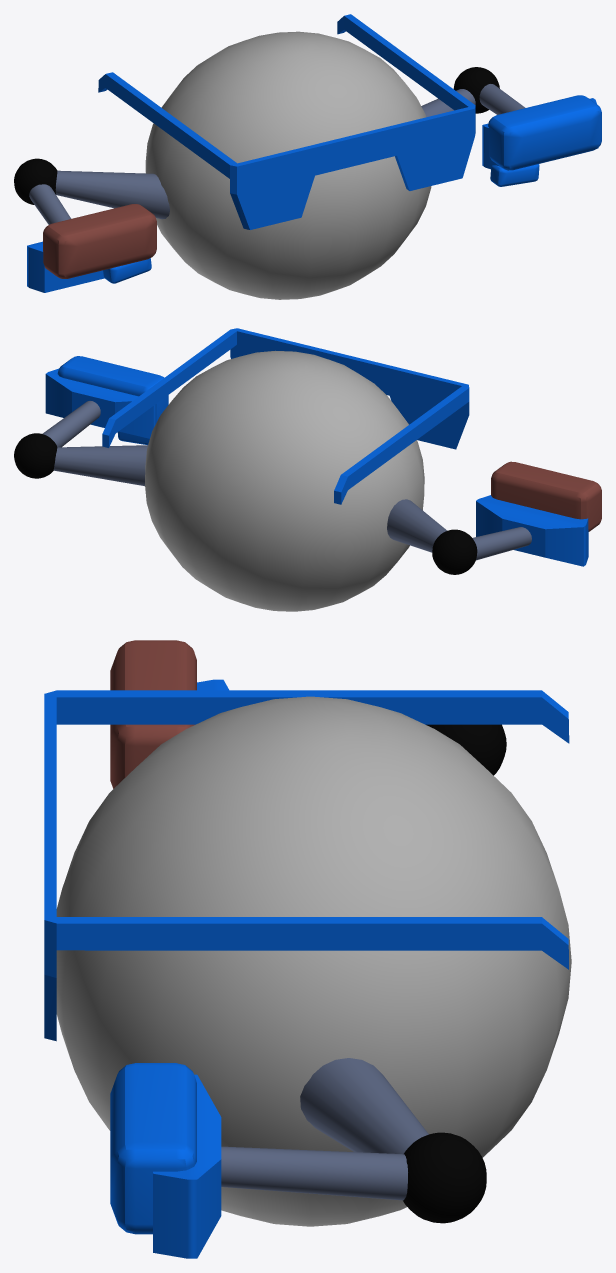
File: player2.fbx
The picture shows the model from 3 angles, top to bottom: view 1: azimuth 30°, elevation 25°; view 2: azimuth 150°, elevation 25°; view 3: azimuth 270°, elevation 25°; orthographic projection. The views are drawn at different scales.
Visible parts, largest first — view 1: pSphere1, pCube3, pCube4, pCube6, pCylinder3, pCube2, pasted__pSphere5, pasted__pSphere1, pCylinder4, pCube7, pCylinder2, pCube5 (+2 smaller); view 2: pSphere1, pCube3, pCube4, pCube2, pCube1, pCylinder1, pCube6, pCylinder3, pasted__pSphere5, pasted__pSphere1, pCylinder2, pCylinder4; view 3: pSphere1, pCube3, pCube6, pCylinder2, pCylinder1, pCube1, pCube4, pasted__pSphere1, pasted__pSphere5.
Part boxes in pixels (box(x1,y1,x2,y2)): pSphere1: box(145, 31, 431, 299); pCube3: box(98, 14, 475, 229); pCube4: box(43, 204, 156, 278); pCube6: box(488, 95, 601, 170); pCylinder3: box(55, 170, 169, 219); pCube2: box(27, 241, 104, 292); pasted__pSphere5: box(14, 158, 57, 204); pasted__pSphere1: box(453, 67, 499, 113); pCylinder4: box(29, 184, 71, 224); pCube7: box(490, 164, 539, 186); pCylinder2: box(479, 84, 525, 114); pCube5: box(103, 258, 151, 283); pSphere1: box(145, 350, 424, 611); pCube3: box(102, 328, 469, 504); pCube4: box(491, 461, 601, 531); pCube2: box(476, 495, 588, 566); pCube1: box(45, 368, 156, 438); pCylinder1: box(53, 445, 147, 486); pCube6: box(57, 356, 168, 421); pCylinder3: box(387, 499, 447, 552); pasted__pSphere5: box(432, 529, 477, 574); pasted__pSphere1: box(14, 433, 57, 478); pCylinder2: box(42, 401, 100, 447); pCylinder4: box(472, 527, 531, 560); pSphere1: box(56, 696, 571, 1226); pCube3: box(44, 690, 569, 1041); pCube6: box(110, 1063, 196, 1234); pCylinder2: box(221, 1146, 407, 1200); pCylinder1: box(300, 1058, 428, 1154); pCube1: box(153, 1074, 221, 1258); pCube4: box(110, 640, 196, 788); pasted__pSphere1: box(403, 1132, 486, 1223); pasted__pSphere5: box(426, 724, 506, 775).
Bounding box in the file's own units: 15.7 × 6.48 × 6.59.
